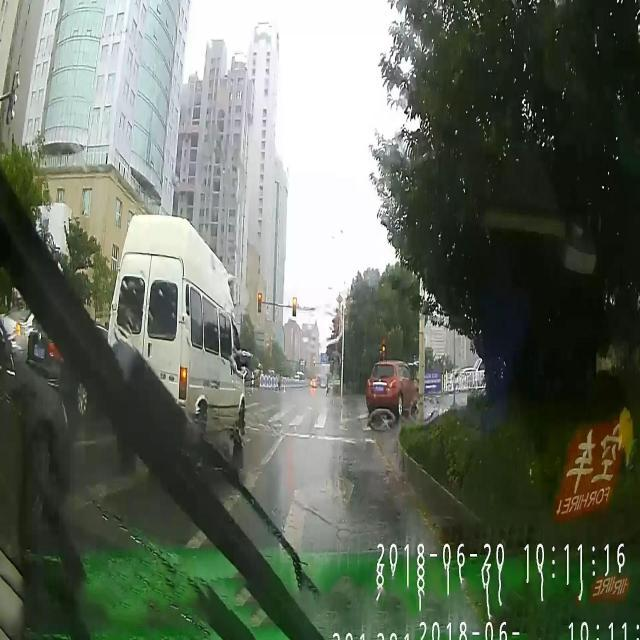car: (106, 208, 247, 452), (0, 336, 77, 511), (25, 310, 110, 412), (362, 352, 422, 419)
